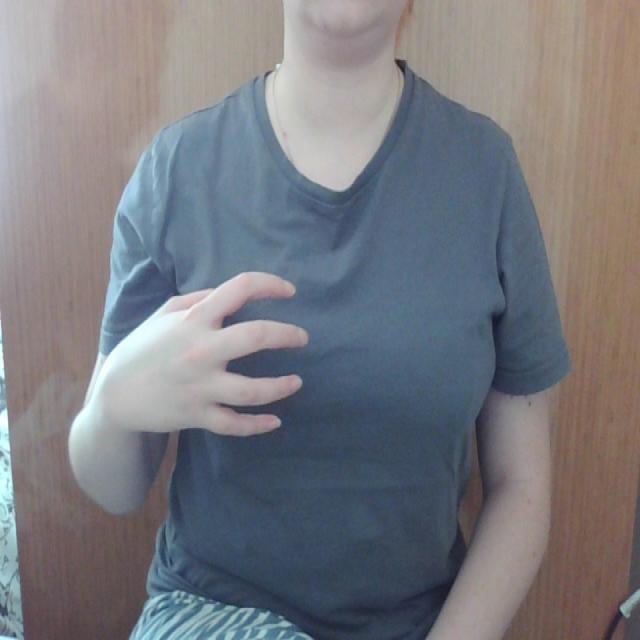Anne: (78, 222, 324, 448)
